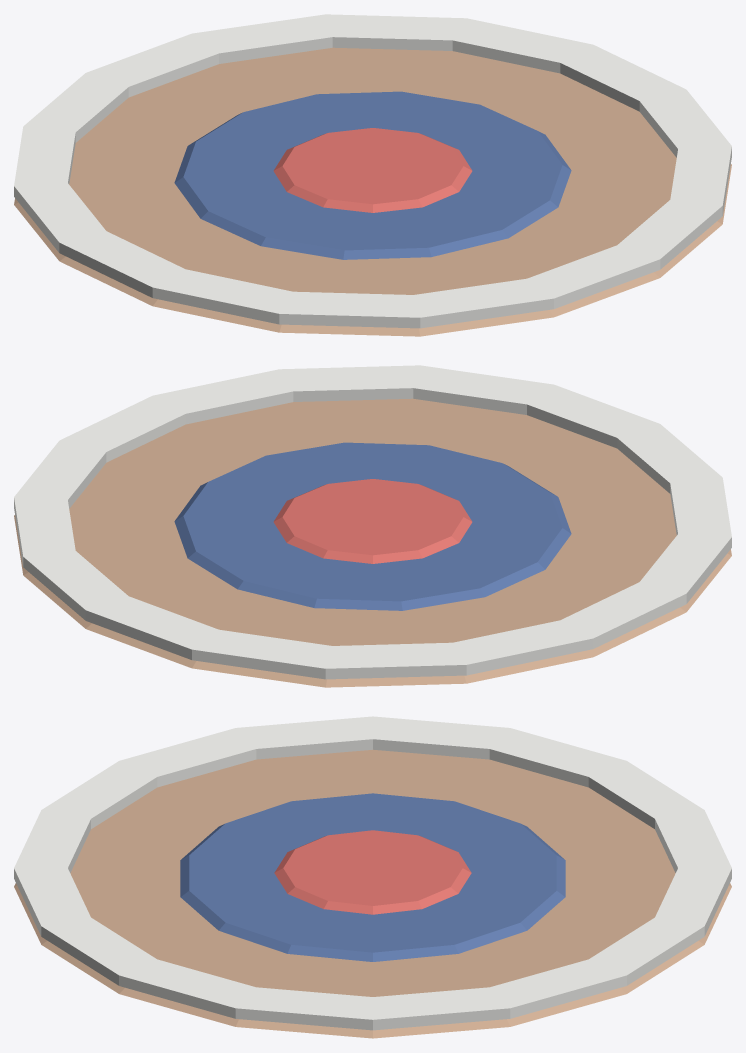
File: baseball-park-and-batting-cages-on-deck-circle-4a1d5533__33748.glb
3 views of the same model, one above another, from view 1: azimuth 30°, elevation 25°; view 2: azimuth 150°, elevation 25°; view 3: azimuth 270°, elevation 25° (orthographic).
Parts seen in each view (by area): view 1: on-deck-circle; view 2: on-deck-circle; view 3: on-deck-circle.
Boxes of the visible parts, left/top/right/bottom form: on-deck-circle: left=14, top=14, right=731, bottom=336; on-deck-circle: left=14, top=365, right=731, bottom=687; on-deck-circle: left=14, top=716, right=731, bottom=1038.
Size of the model in its own units: 1.6 by 0.046 by 1.6.
